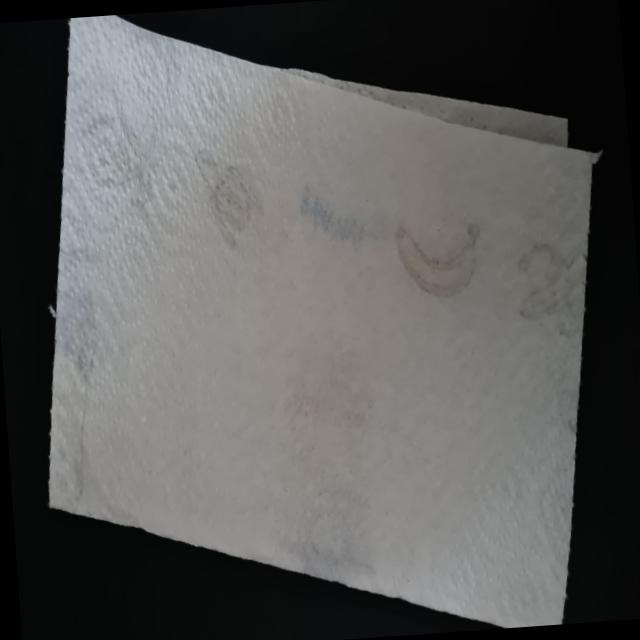organic waste: (10, 0, 633, 640)
